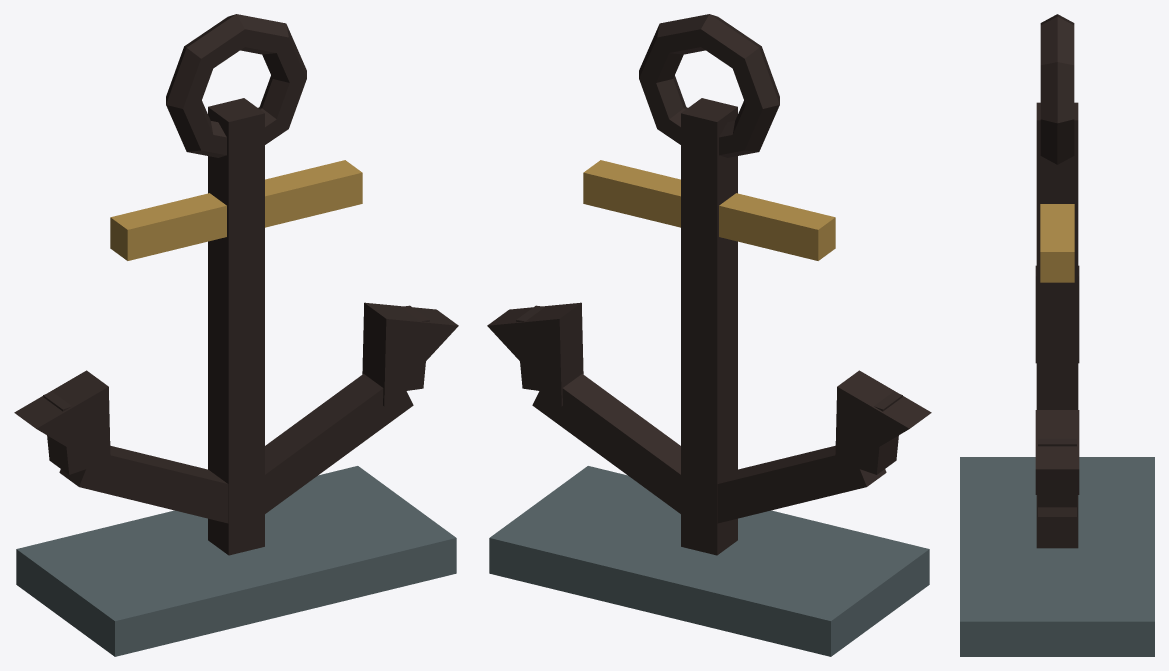
Rendered from PirateCove_Anchor_Simple.glb.
3 renders of one model, left to right at view 1: azimuth 30°, elevation 25°; view 2: azimuth 150°, elevation 25°; view 3: azimuth 270°, elevation 25°, orthographic.
Visible parts, largest first — view 1: PirateCove_Anchor_Simple; view 2: PirateCove_Anchor_Simple; view 3: PirateCove_Anchor_Simple.
Boxes of the visible parts, x1,y1,x2,y2 form: PirateCove_Anchor_Simple: [14, 14, 458, 656]; PirateCove_Anchor_Simple: [487, 14, 931, 656]; PirateCove_Anchor_Simple: [960, 14, 1154, 656].
Size of the model in its own units: 1.98 by 2.53 by 0.8.
